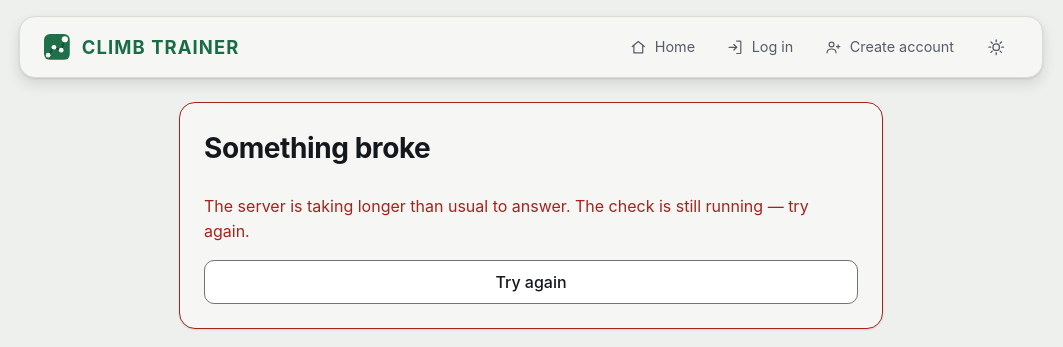
Test case: the _authed guard › leaves pending at the UI deadline, then the retry re-joins the SAME refresh
Expected: the heading "Something broke" is shown, x1=204 y1=131 x2=430 y2=165
Expected: the text "still running" is shown, x1=204 y1=196 x2=809 y2=241
Click the button "Try again".
click(531, 282)  # box x1=204 y1=260 x2=858 y2=304
Wait 4001 ms
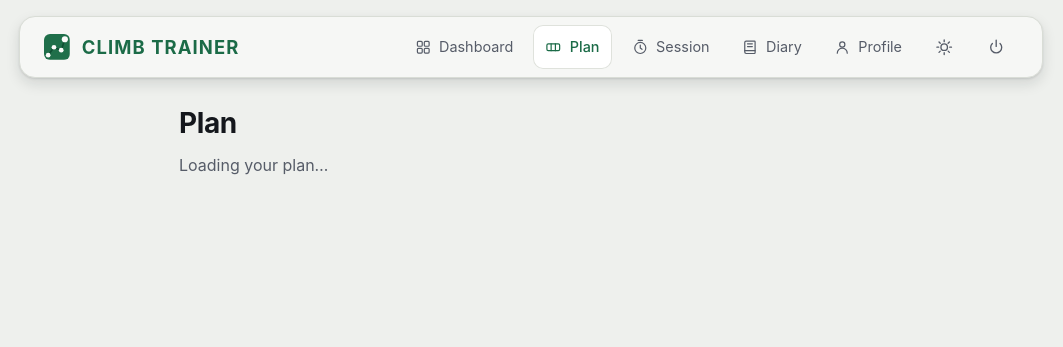
Result: the heading "Plan" is shown at x1=179 y1=106 x2=237 y2=140
